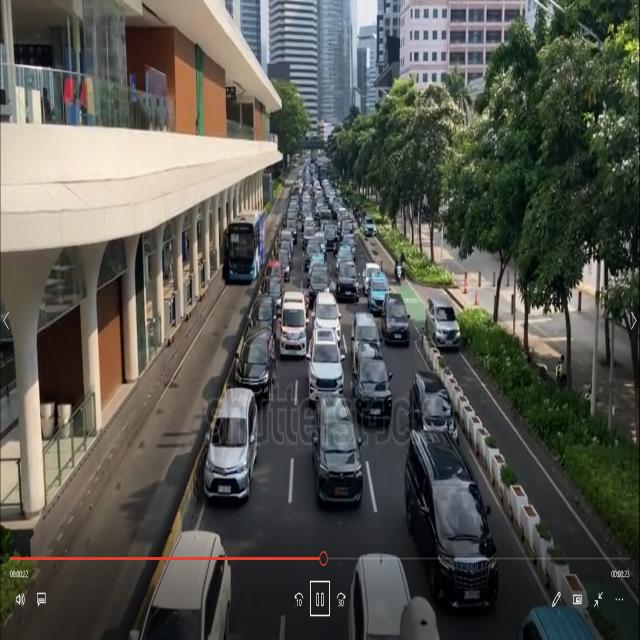Ambulance: (279, 289, 308, 358)
